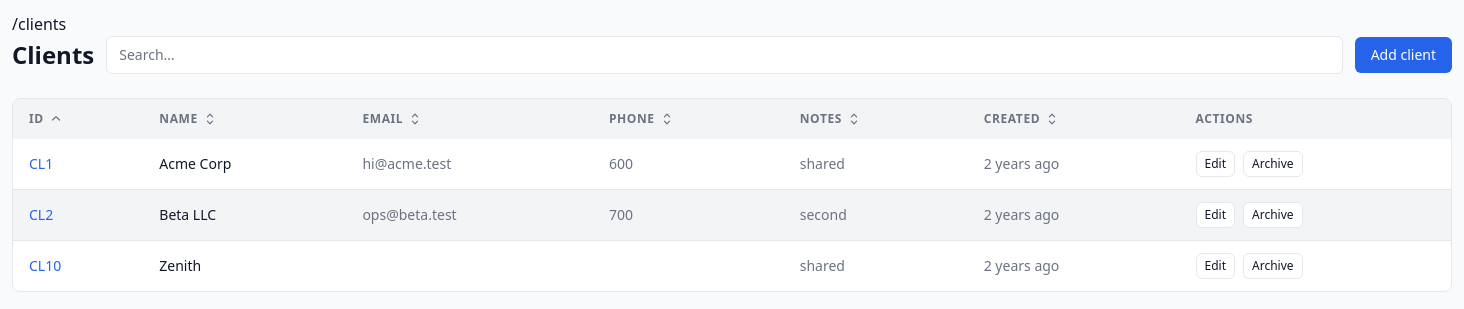
Test: ClientsPage › shows tag names in a portal tooltip on hover and hides them on leave
Hover over the text with test id "client-name-tooltip-CL1": (195, 164) x1=159 y1=154 x2=231 y2=174
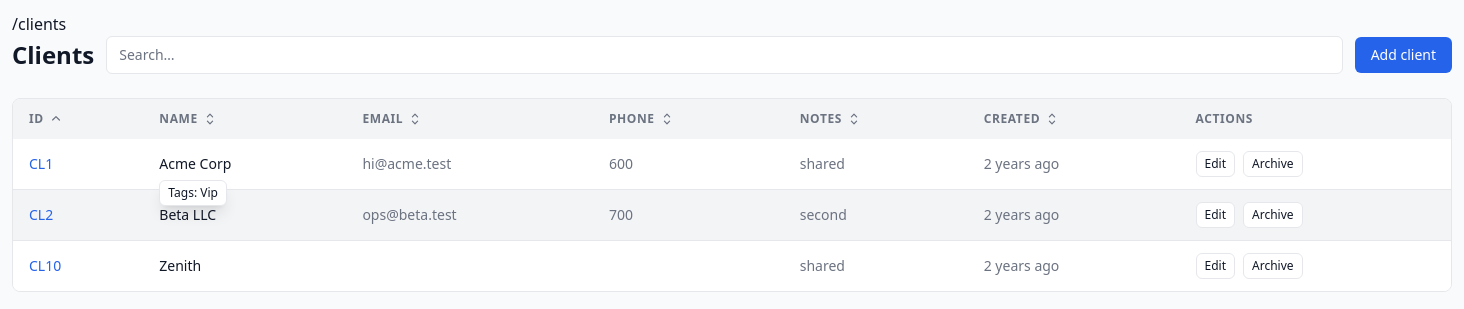
expect the tooltip reads "Tags: Vip": met, box x1=168 y1=184 x2=218 y2=201
Move the pointer off the text with test id "client-name-tooltip-CL1", box x1=159 y1=154 x2=231 y2=174
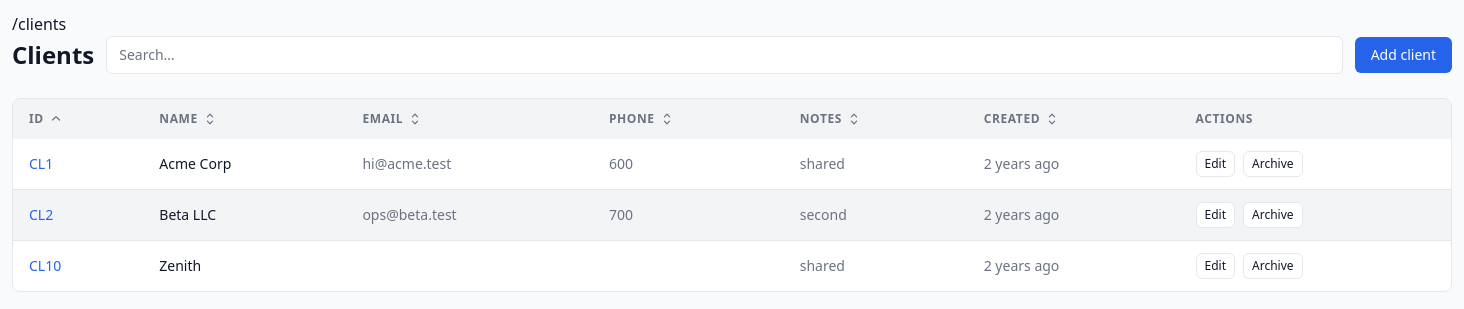
expect the tooltip "Tags: Vip" is gone: met
